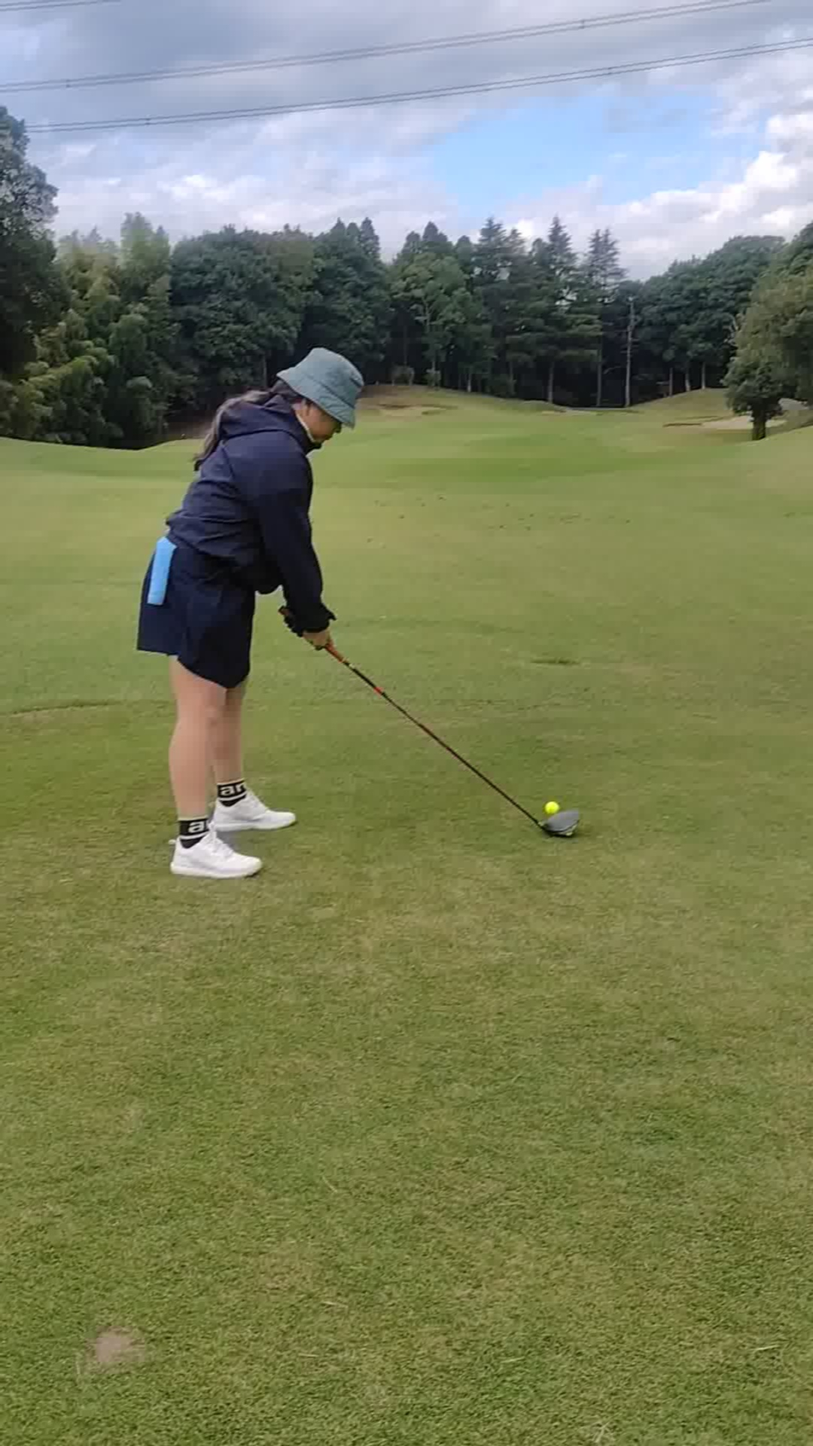clubhead: (479, 744, 636, 879)
